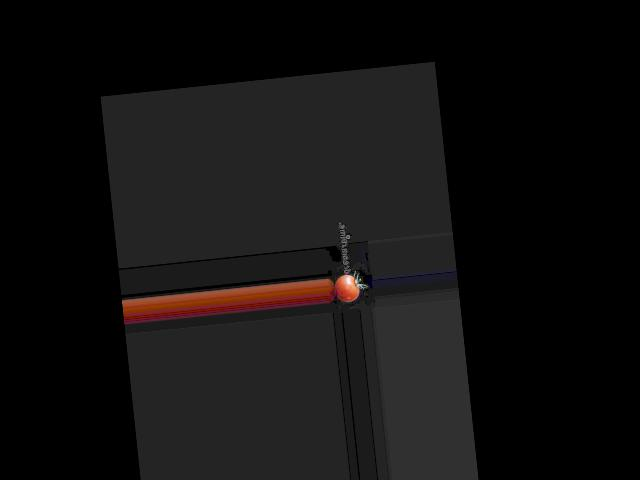tomato: (334, 273, 360, 302)
